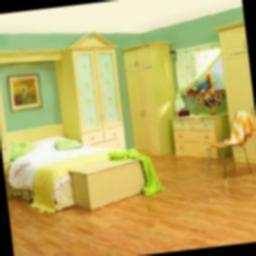Armario: (71, 43, 126, 152), (219, 24, 256, 164), (126, 45, 173, 155), (71, 156, 158, 208)
